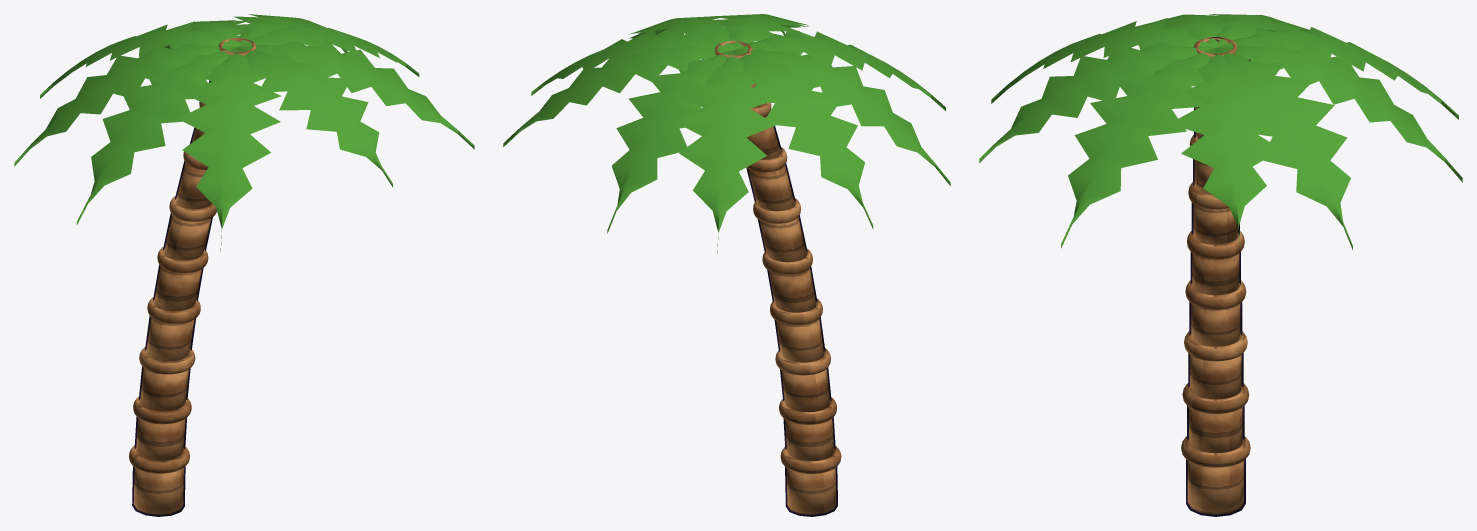
The model's file is palm1.glb.
The picture shows the model from 3 angles, left to right: view 1: azimuth 30°, elevation 25°; view 2: azimuth 150°, elevation 25°; view 3: azimuth 270°, elevation 25°; orthographic projection. The views are drawn at different scales.
Parts seen in each view (by area): view 1: palm1; view 2: palm1; view 3: palm1.
Part boxes in pixels (bbox=[...]): palm1: bbox=[14, 14, 474, 516]; palm1: bbox=[503, 14, 950, 516]; palm1: bbox=[979, 14, 1462, 516].
Bounding box in the file's own units: 2.86 × 3.16 × 2.75.
Materials: 4 (1 with a texture image).
